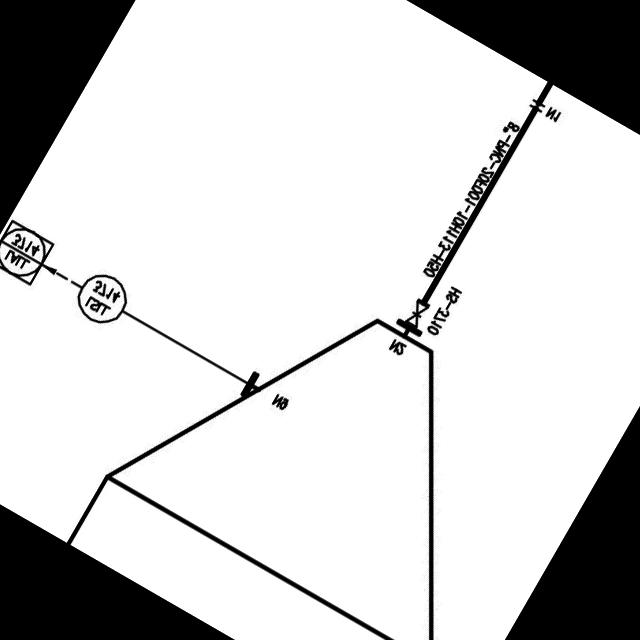GV: (394, 293, 439, 343)
